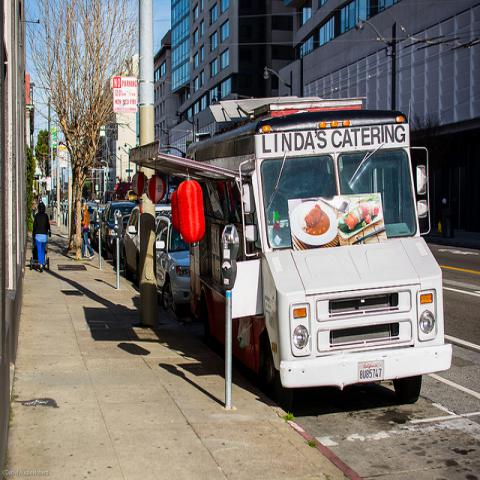car: (155, 214, 191, 313), (123, 204, 140, 283), (108, 201, 138, 231), (101, 202, 115, 258), (81, 203, 99, 238)
truck: (137, 92, 451, 406)
